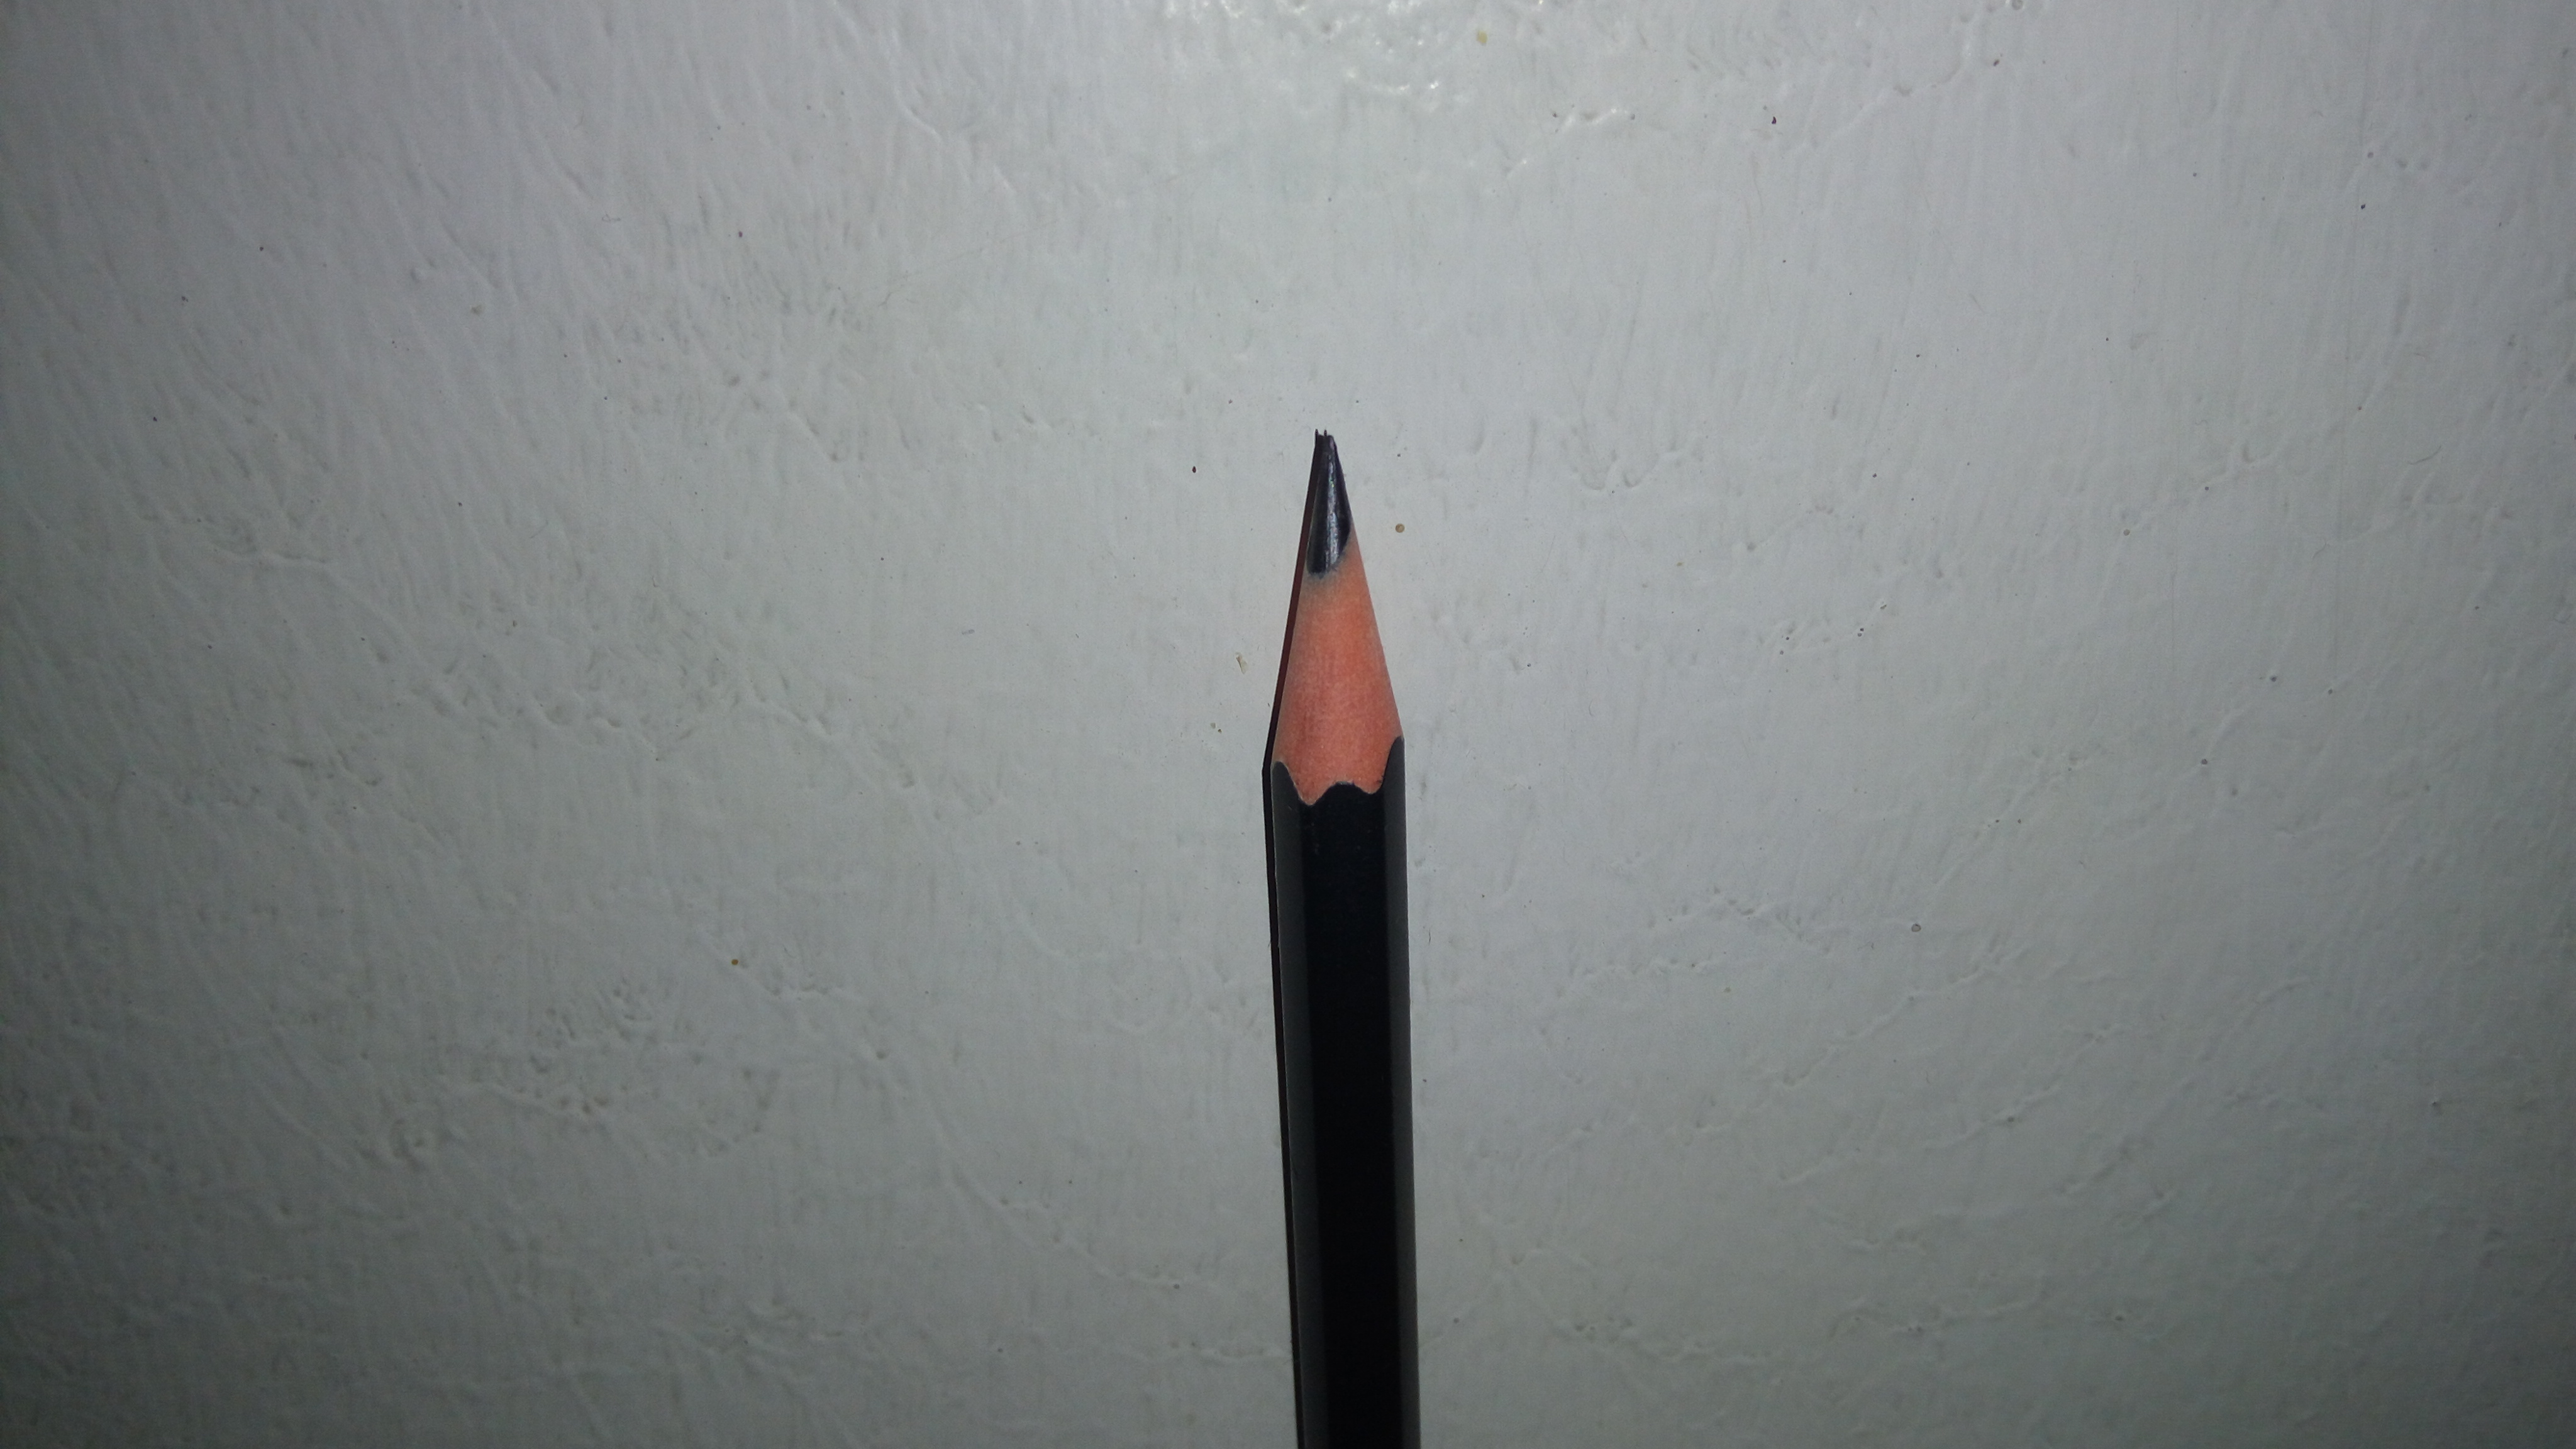pen_tip: (1106, 377, 1591, 957)
